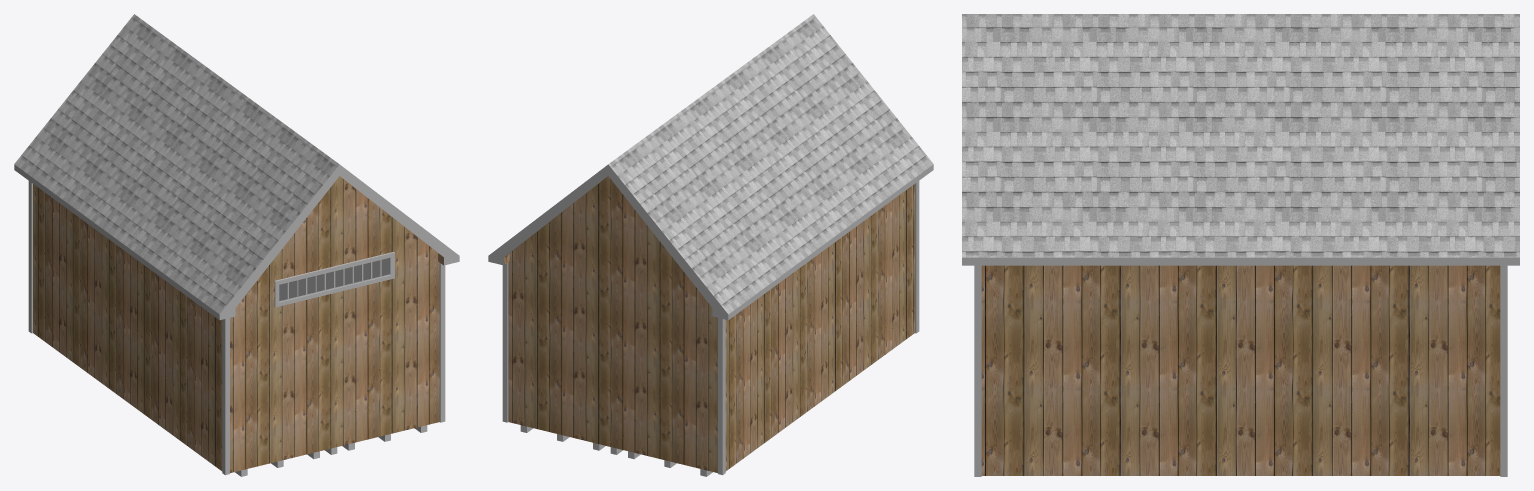
File: Elite Garage_12x18.obj
3 views of the same model, side by side, from view 1: azimuth 30°, elevation 25°; view 2: azimuth 150°, elevation 25°; view 3: azimuth 270°, elevation 25° (orthographic). The views are drawn at different scales.
Parts seen in each view (by area): view 1: Shed, Roof, Trim, Sides, Windows, Floor; view 2: Shed, Roof, Sides, Trim, Floor; view 3: Roof, Shed, Sides, Trim.
Boxes of the visible parts, x1=… form: Shed: x1=33, y1=176, x2=443, y2=472; Roof: x1=14, y1=14, x2=339, y2=314; Trim: x1=28, y1=181, x2=445, y2=475; Sides: x1=14, y1=164, x2=459, y2=320; Windows: x1=279, y1=258, x2=389, y2=300; Floor: x1=235, y1=425, x2=427, y2=476; Shed: x1=504, y1=176, x2=914, y2=472; Roof: x1=608, y1=14, x2=933, y2=314; Sides: x1=488, y1=164, x2=933, y2=320; Trim: x1=502, y1=181, x2=919, y2=475; Floor: x1=520, y1=425, x2=712, y2=476; Roof: x1=962, y1=14, x2=1519, y2=257; Shed: x1=981, y1=265, x2=1500, y2=475; Sides: x1=962, y1=257, x2=1519, y2=265; Trim: x1=974, y1=265, x2=1507, y2=476.
Bounding box in the file's own units: 3.91 × 4.57 × 5.79.
